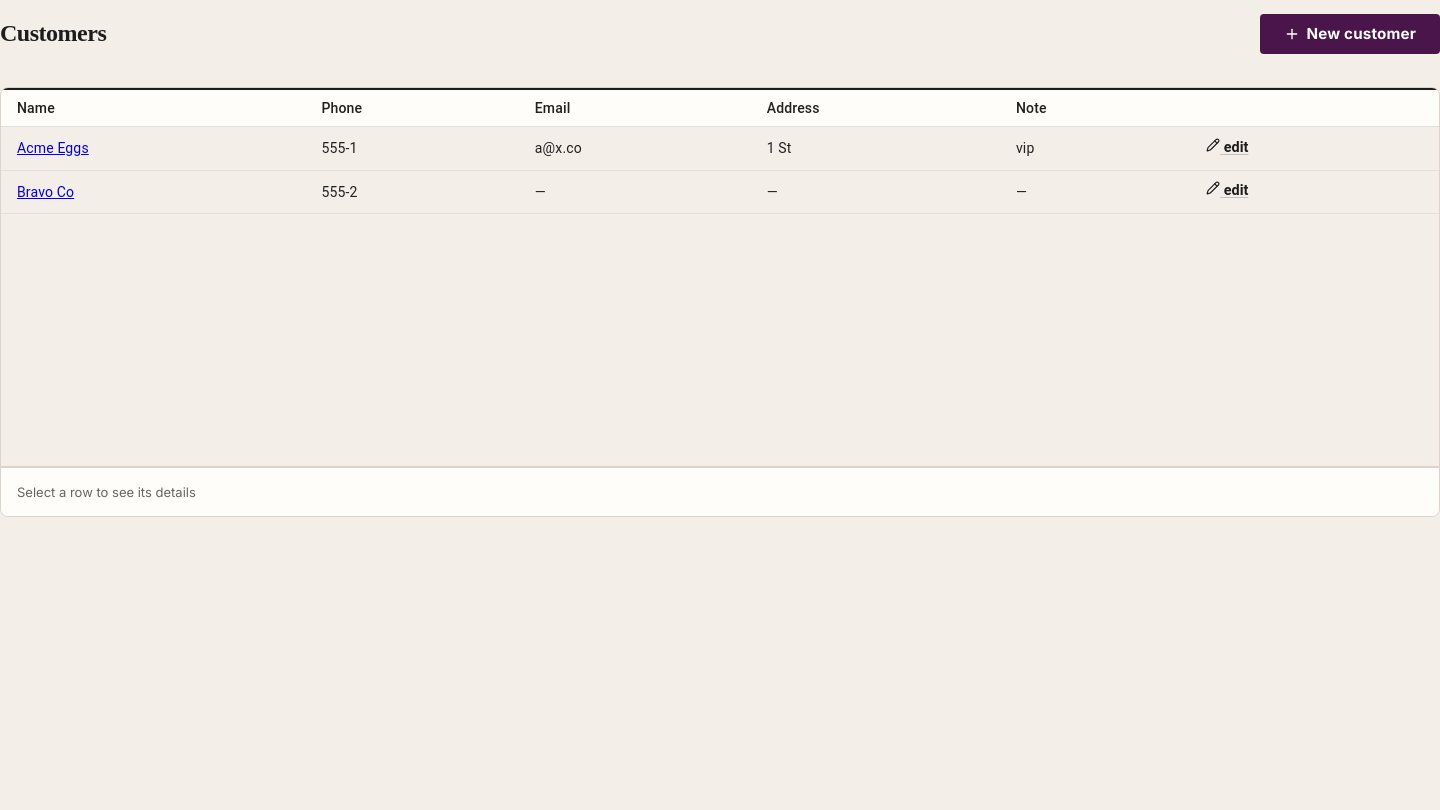
Test: CustomersPage selected-record inspector (#908) › opens the same edit dialog from the inspector's own Edit action
Click the text "Acme Eggs" at (720, 148), box [1,127,1439,170]
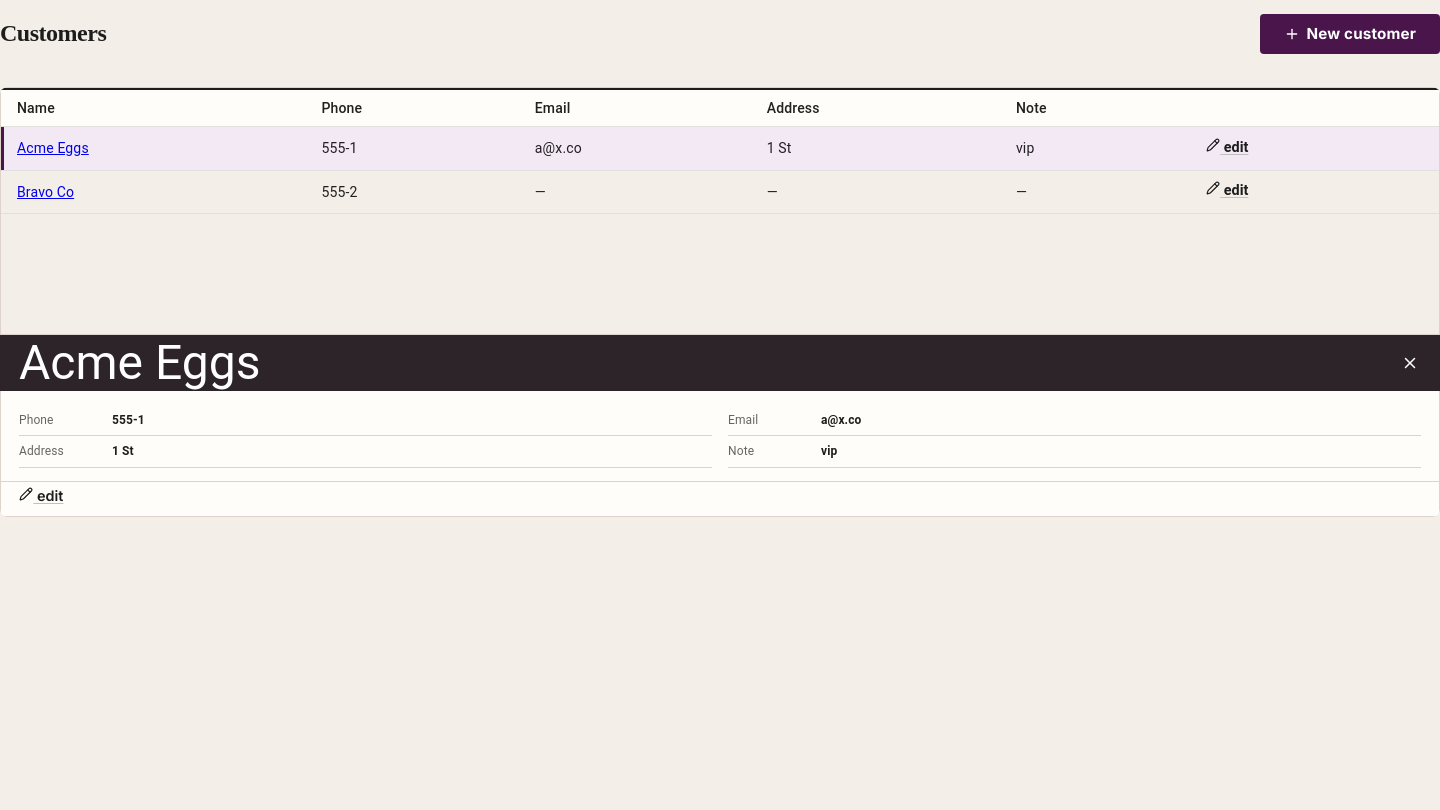
Click the 3rd button "edit" at (41, 495), box [13,482,70,508]
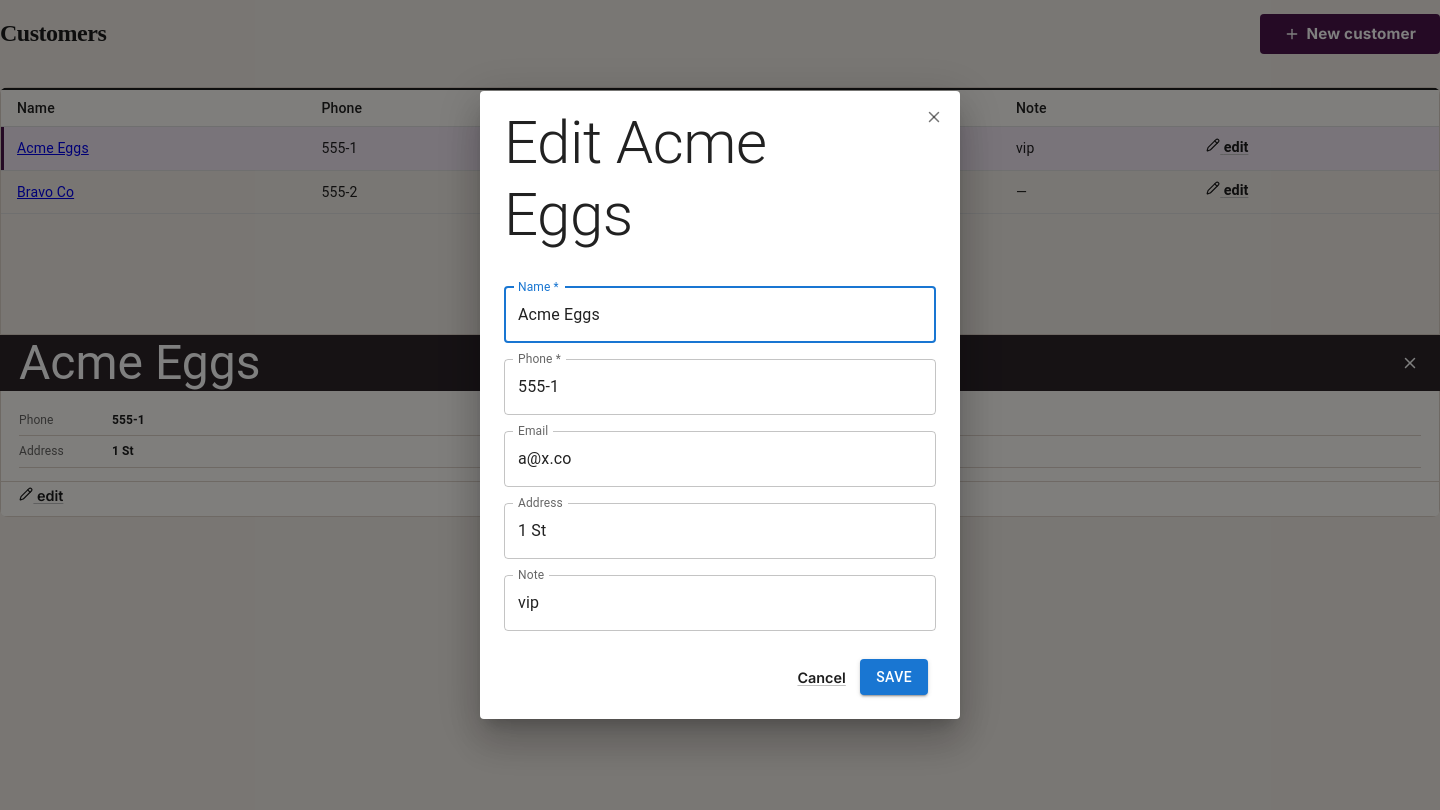
expect the dialog "Edit Acme Eggs" is shown: met, box [480,91,960,719]
